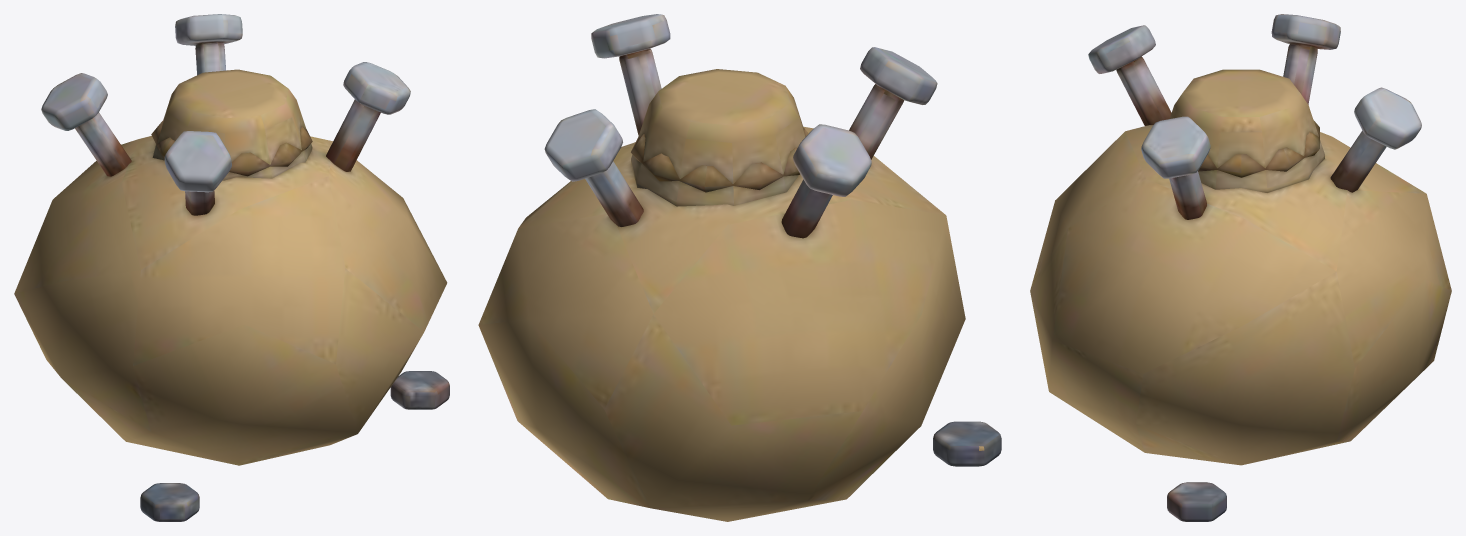
File: bolts.glb
3 views of the same model, side by side, from view 1: azimuth 30°, elevation 25°; view 2: azimuth 150°, elevation 25°; view 3: azimuth 270°, elevation 25° (orthographic). The views are drawn at different scales.
Visible parts, largest first — view 1: body; view 2: body; view 3: body.
Boxes of the visible parts, x1,y1,x2,y2 form: body: (14,14,449,521); body: (478,14,1001,521); body: (1030,14,1451,521).
Bounding box in the file's own units: 0.4765 × 0.4473 × 0.4751.
Materials: 1 (1 with a texture image).
